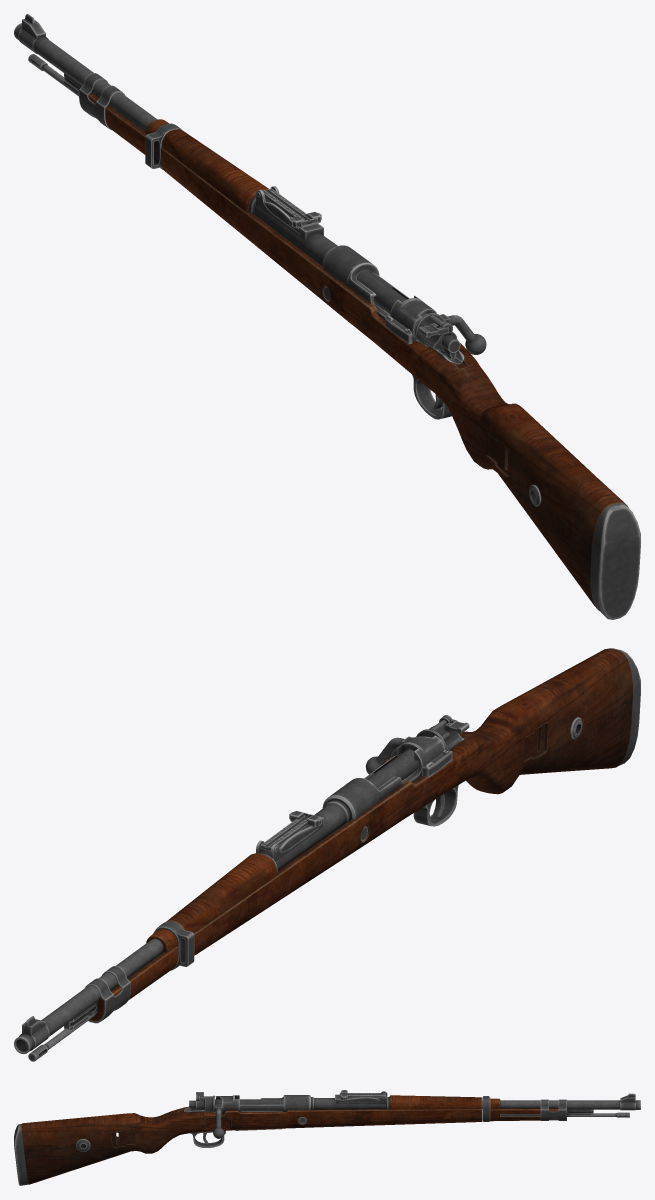
Rendered from kar98k.glb.
The picture shows the model from 3 angles, top to bottom: view 1: azimuth 30°, elevation 25°; view 2: azimuth 150°, elevation 25°; view 3: azimuth 270°, elevation 25°; orthographic projection. The views are drawn at different scales.
Visible parts, largest first — view 1: source-Object_3, source-Object_2, bolt-Object_2; view 2: source-Object_3, source-Object_2, bolt-Object_2; view 3: source-Object_3, source-Object_2, bolt-Object_2.
Part boxes in pixels (left/top/right/bottom): source-Object_3: left=14, top=14, right=640, bottom=619; source-Object_2: left=64, top=73, right=541, bottom=506; bolt-Object_2: left=356, top=270, right=486, bottom=359; source-Object_3: left=14, top=648, right=640, bottom=1061; source-Object_2: left=64, top=717, right=582, bottom=1030; bolt-Object_2: left=364, top=715, right=469, bottom=788; source-Object_3: left=14, top=1091, right=640, bottom=1185; source-Object_2: left=76, top=1090, right=593, bottom=1151; bolt-Object_2: left=189, top=1092, right=283, bottom=1138.
Size of the model in its own units: 0.0871 by 0.1787 by 1.11.
2 materials, 2 textured.
